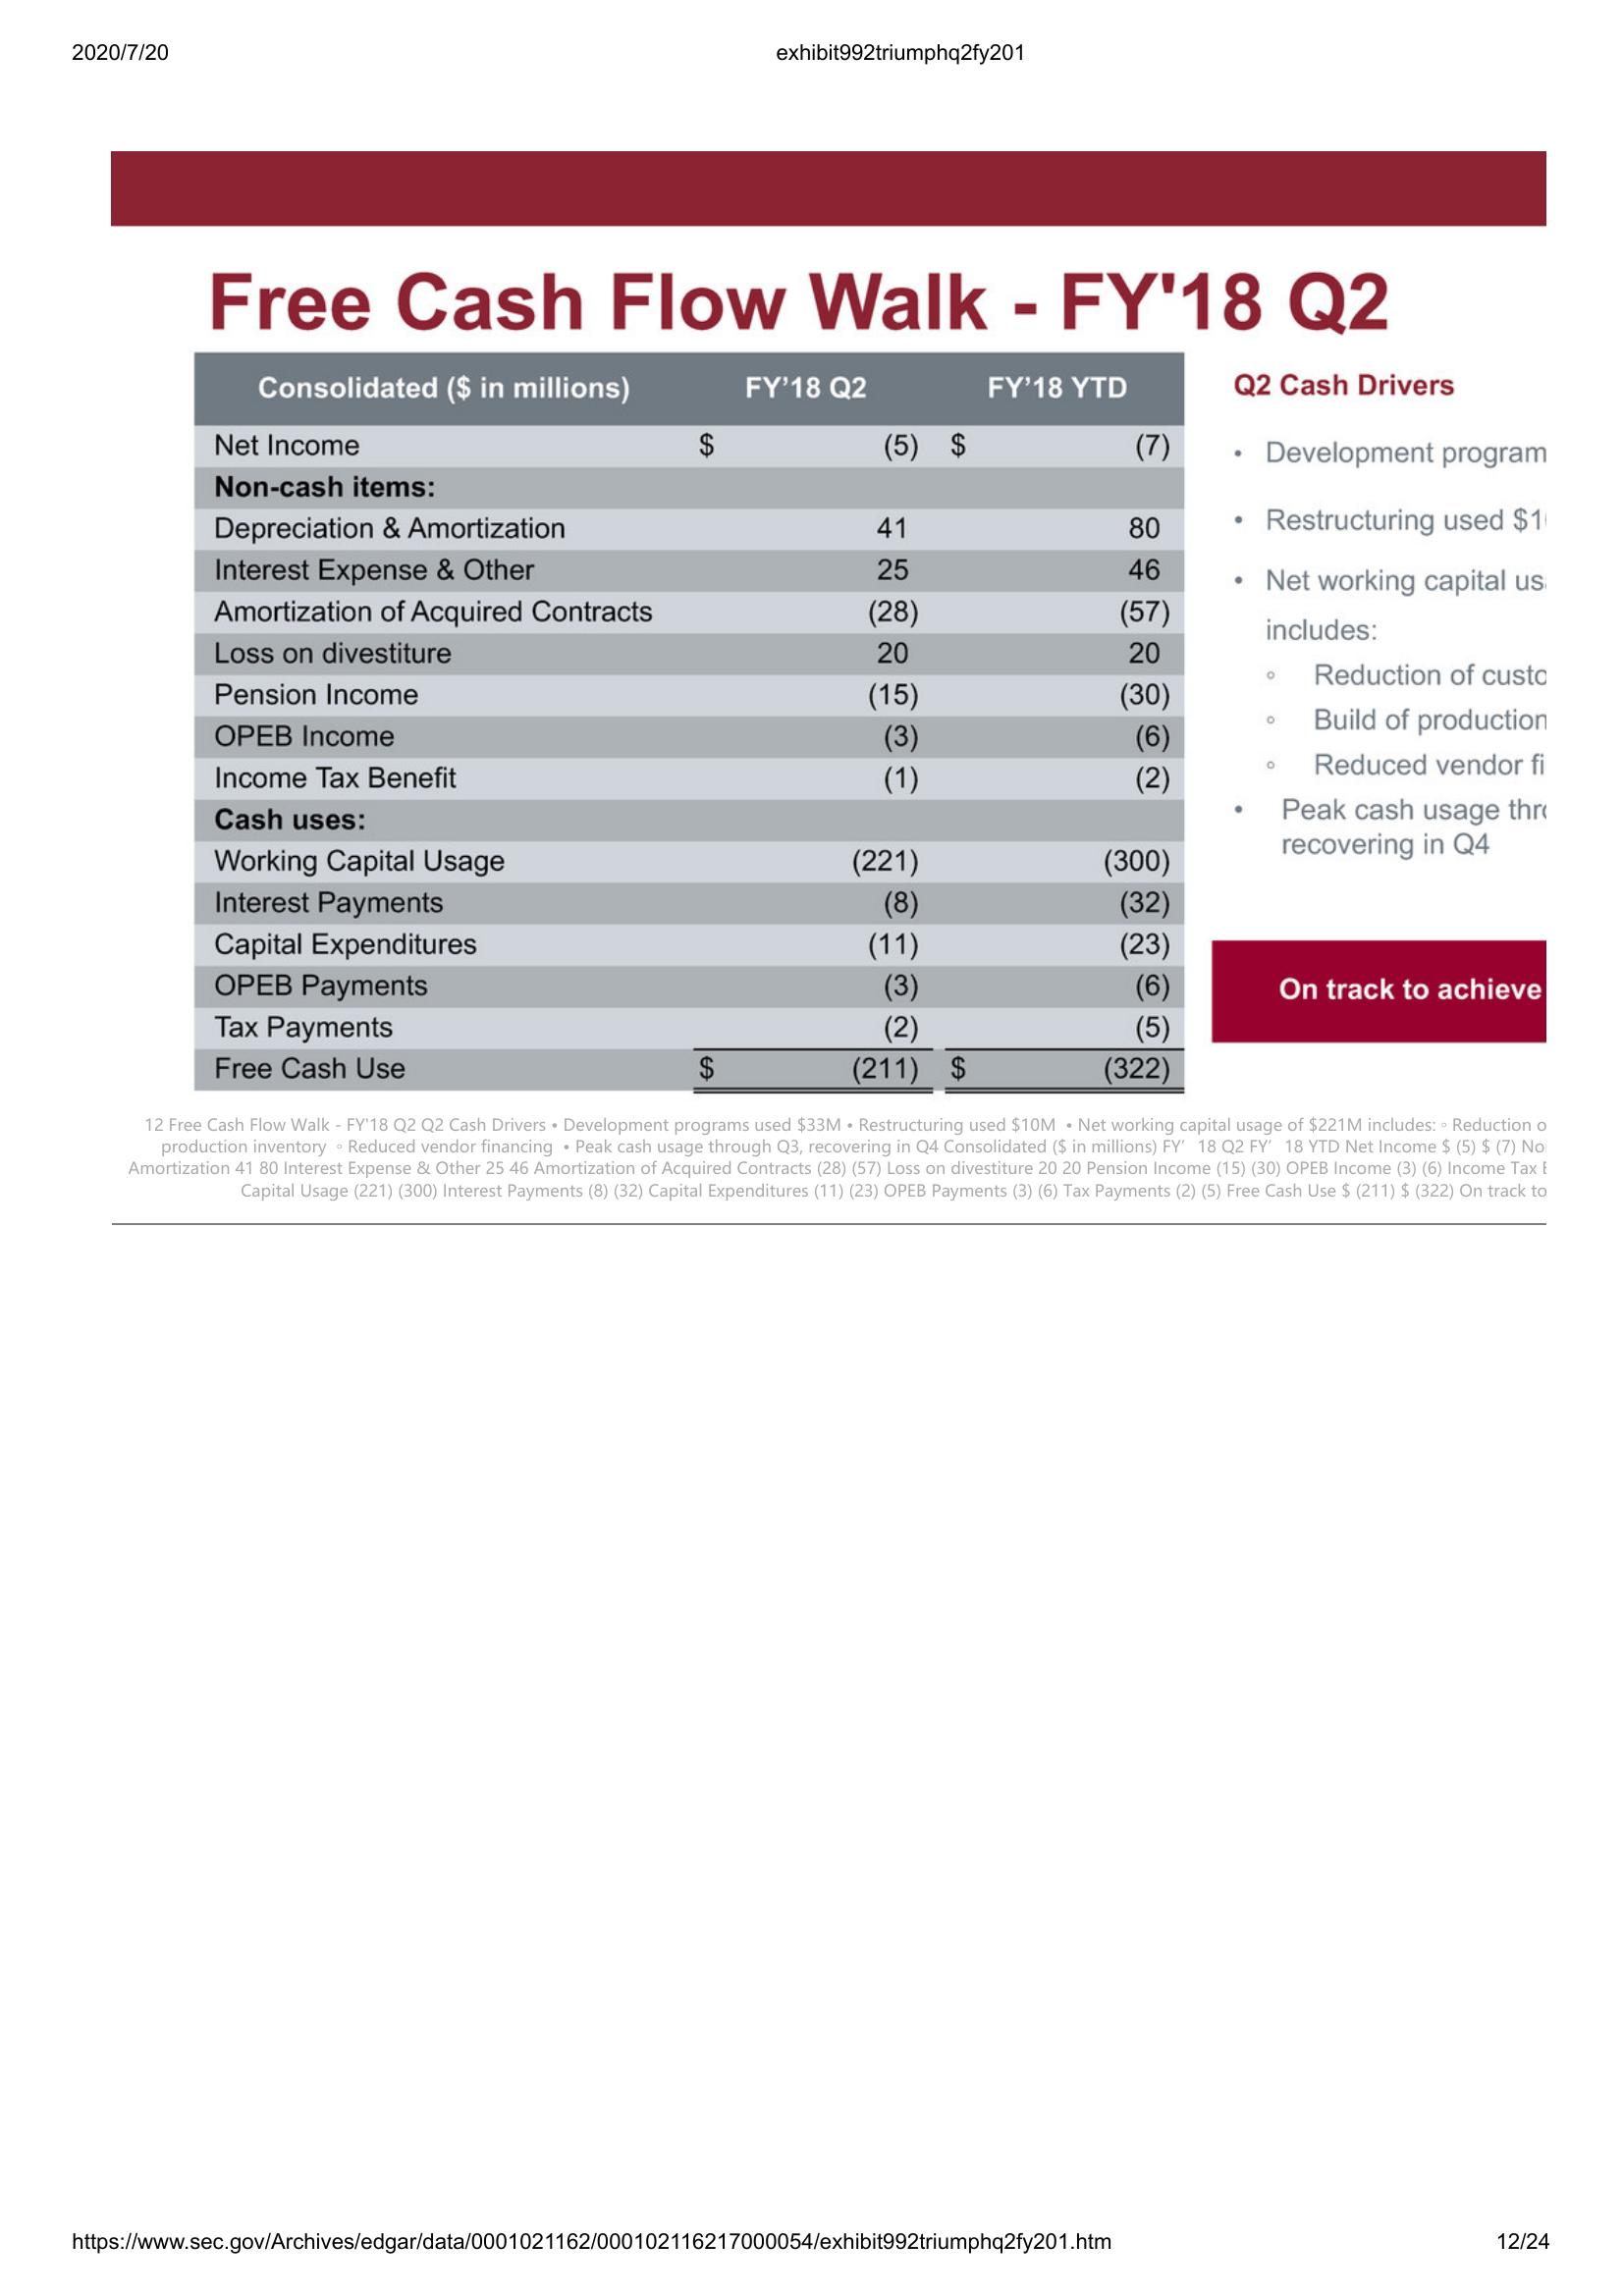table: (188, 348, 1193, 1101)
